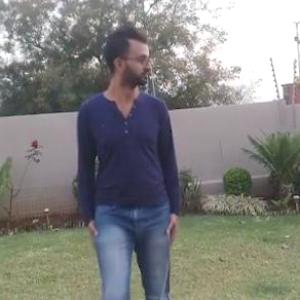follow: (74, 20, 193, 278)
